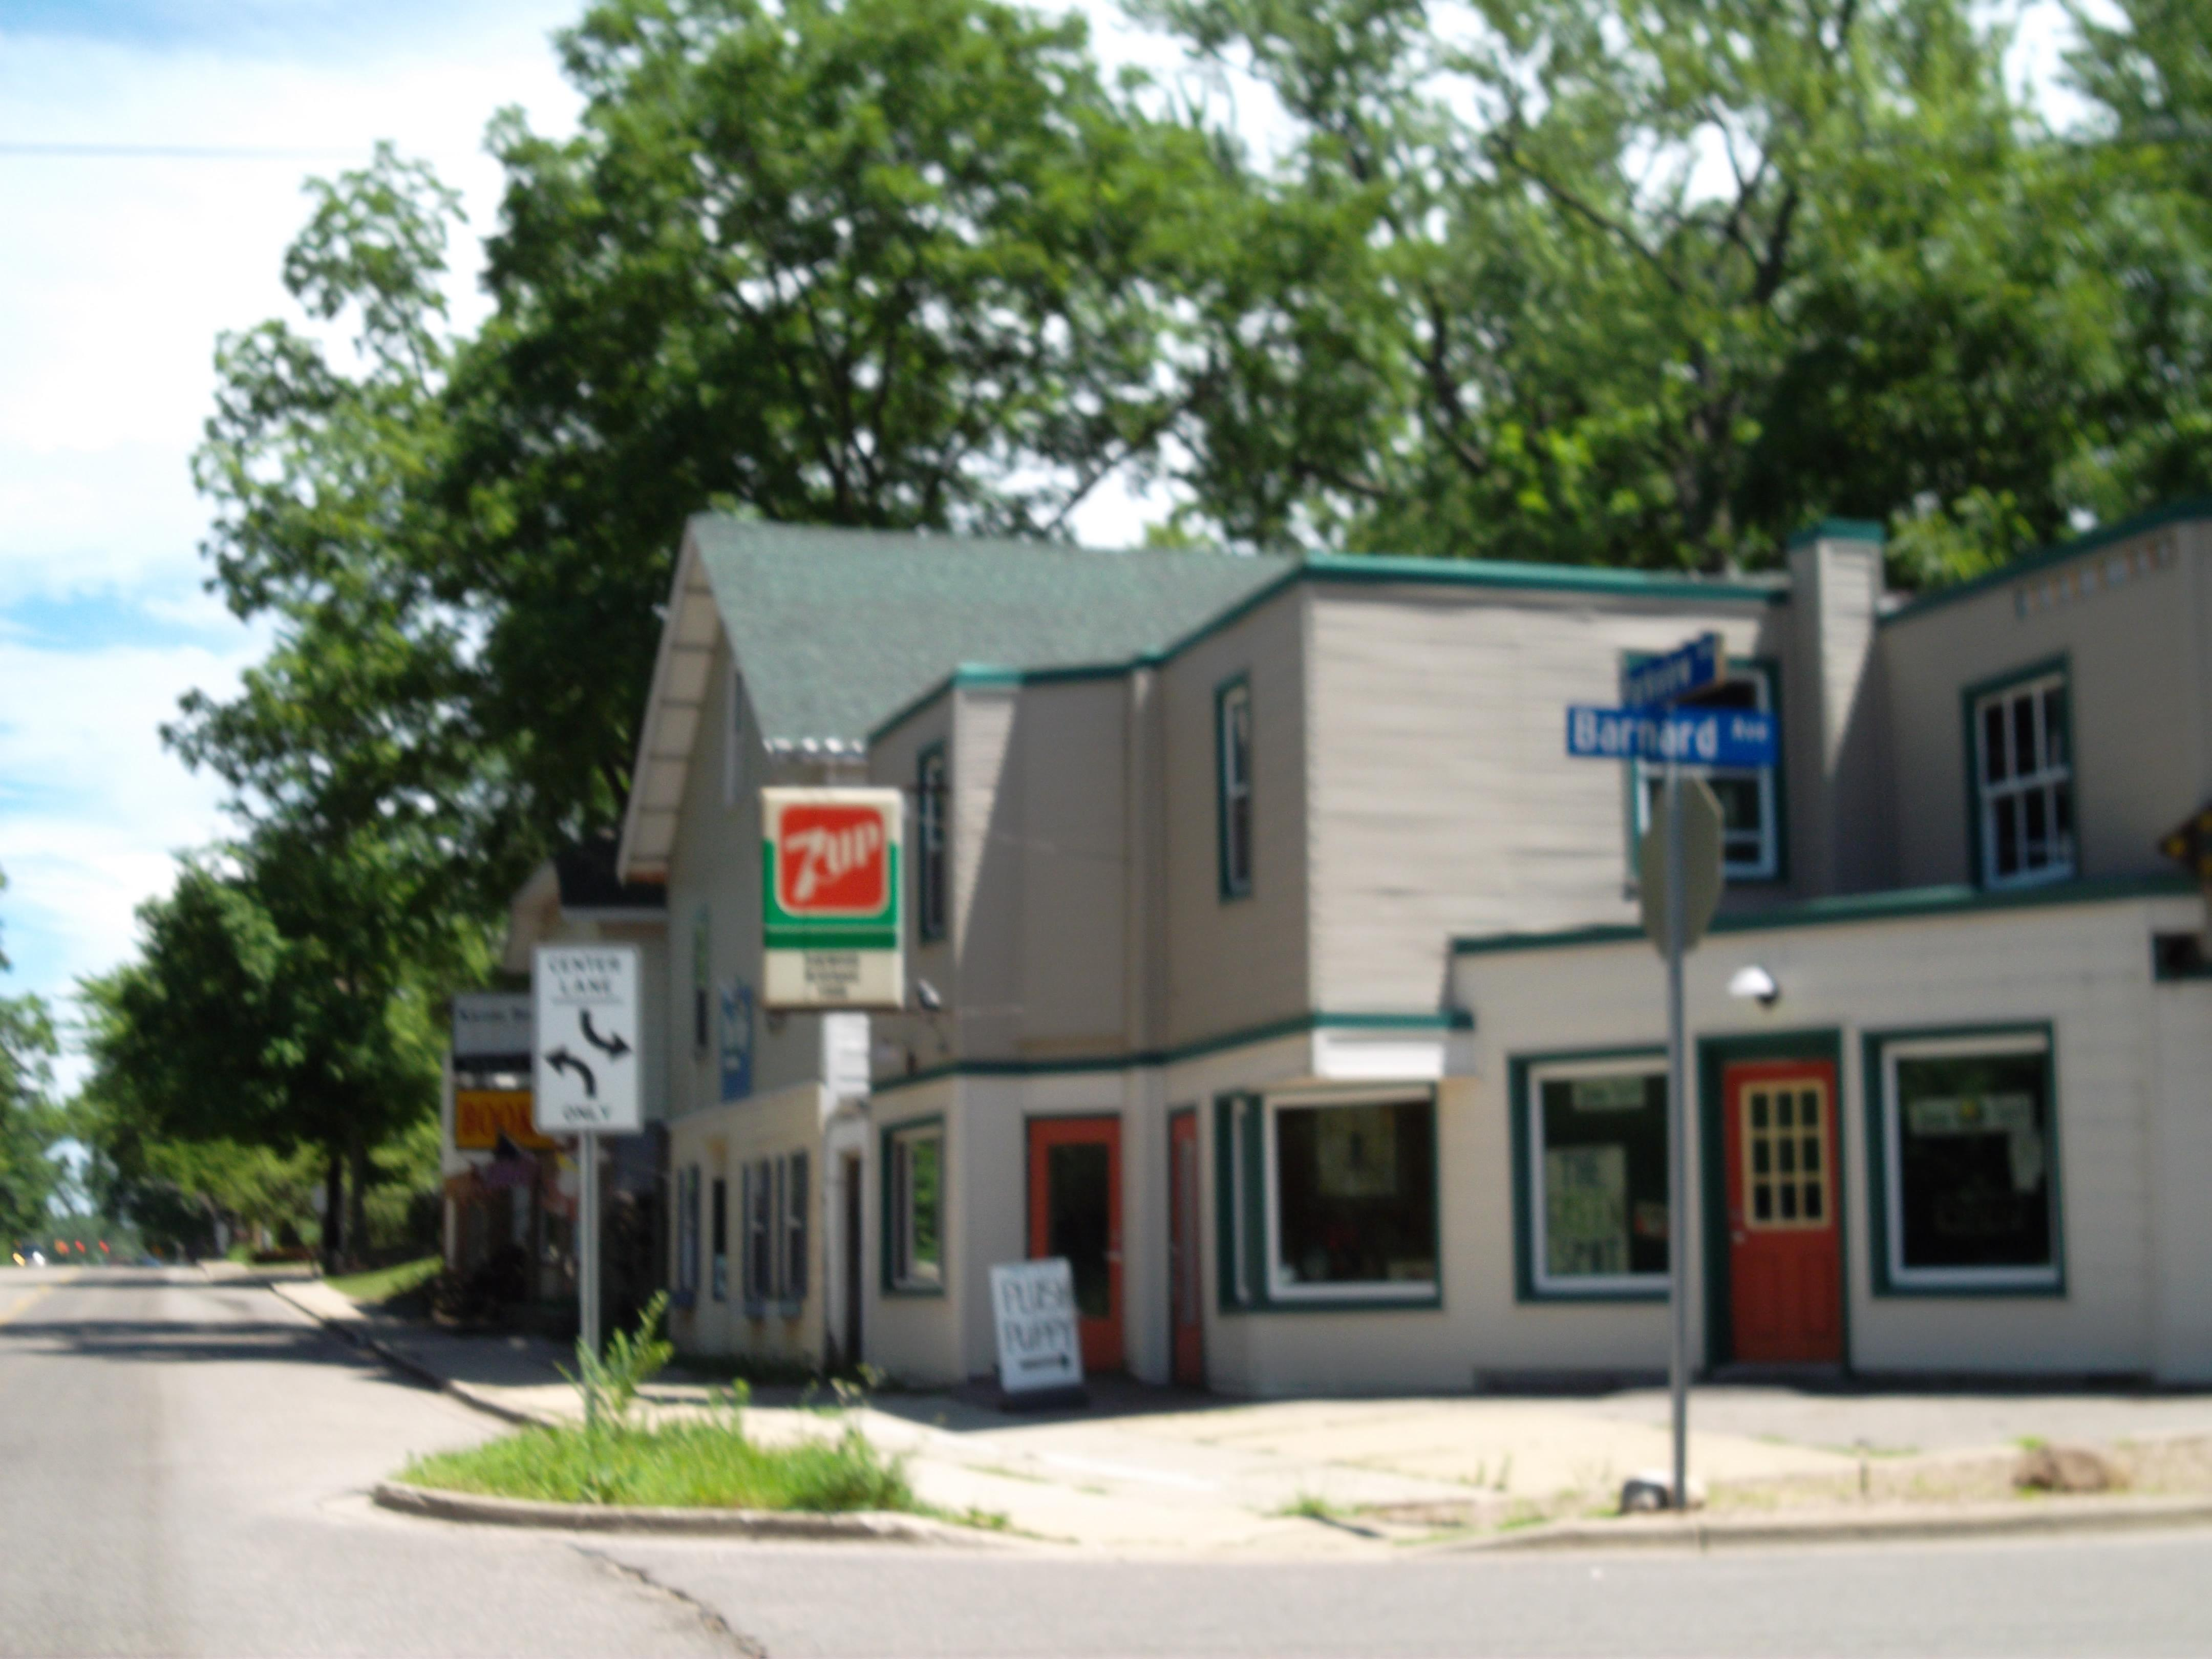regulatory: (533, 932, 657, 1133), (531, 936, 650, 1140)
